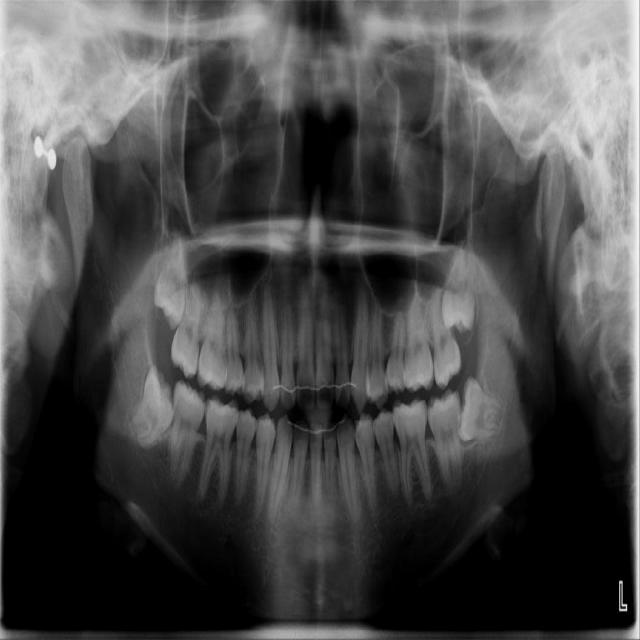impacted tooth: (123, 366, 174, 445), (457, 377, 515, 443), (152, 229, 190, 324), (441, 241, 476, 333)
